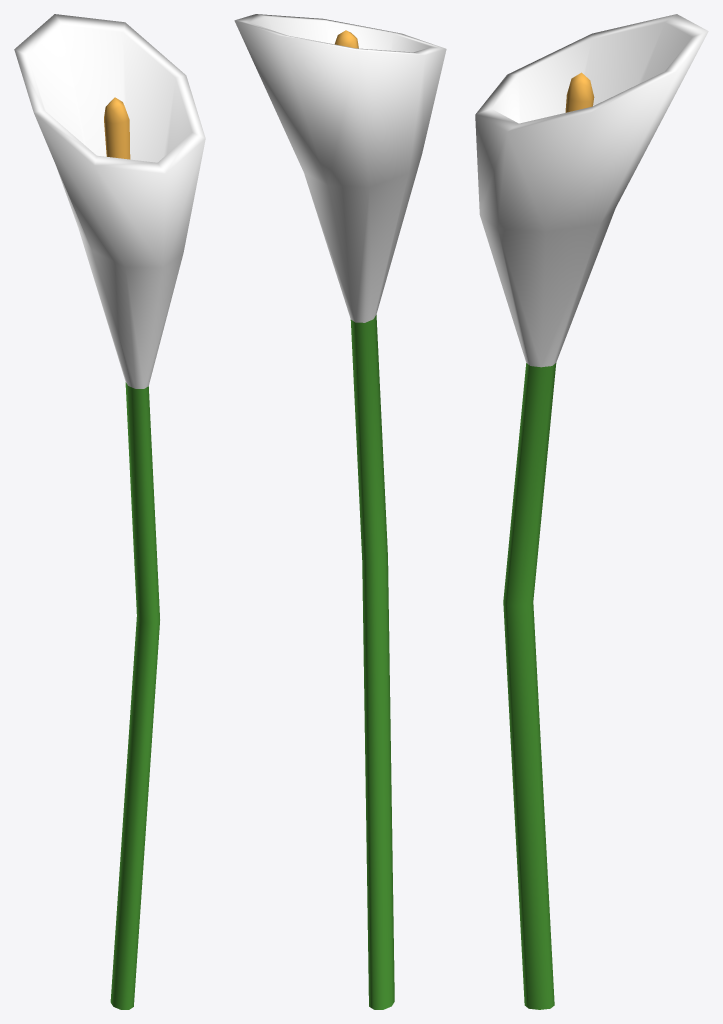
File: Flower_28.fbx
3 views of the same model, side by side, from view 1: azimuth 30°, elevation 25°; view 2: azimuth 150°, elevation 25°; view 3: azimuth 270°, elevation 25° (orthographic). The views are drawn at different scales.
Parts seen in each view (by area): view 1: Flower_28; view 2: Flower_28; view 3: Flower_28.
Boxes of the visible parts, x1,y1,x2,y2 form: Flower_28: [14, 14, 205, 1009]; Flower_28: [234, 14, 446, 1009]; Flower_28: [475, 14, 708, 1009].
Size of the model in its own units: 18.09 by 105 by 22.69.
